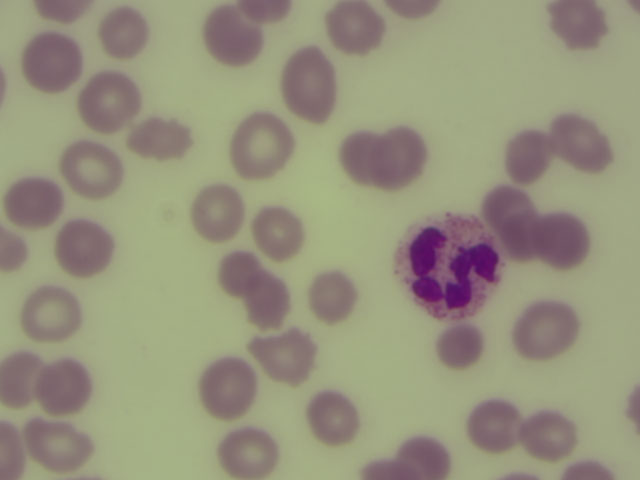RBC: (281, 41, 337, 123), (21, 417, 95, 472), (229, 113, 292, 177), (53, 219, 116, 276), (78, 72, 138, 131), (127, 114, 195, 162), (518, 304, 575, 358), (393, 432, 455, 480), (306, 271, 359, 324), (258, 331, 311, 384), (241, 270, 294, 323), (211, 251, 264, 304), (255, 206, 308, 259), (434, 321, 487, 374), (533, 213, 586, 266), (482, 186, 535, 239), (557, 116, 610, 169), (503, 132, 556, 185), (338, 131, 391, 184), (192, 188, 245, 241), (36, 359, 89, 412), (23, 288, 76, 341), (6, 177, 59, 230), (64, 141, 117, 194), (205, 8, 258, 61), (25, 36, 78, 89), (99, 7, 152, 60), (523, 408, 576, 461), (468, 397, 521, 450), (305, 392, 358, 445), (222, 427, 275, 480), (200, 361, 253, 414), (377, 127, 432, 178), (551, 1, 604, 52), (329, 1, 382, 52), (1, 351, 48, 408), (563, 446, 622, 480), (1, 420, 30, 480), (29, 1, 95, 26), (237, 1, 297, 24)
WBC: (397, 211, 505, 318)
